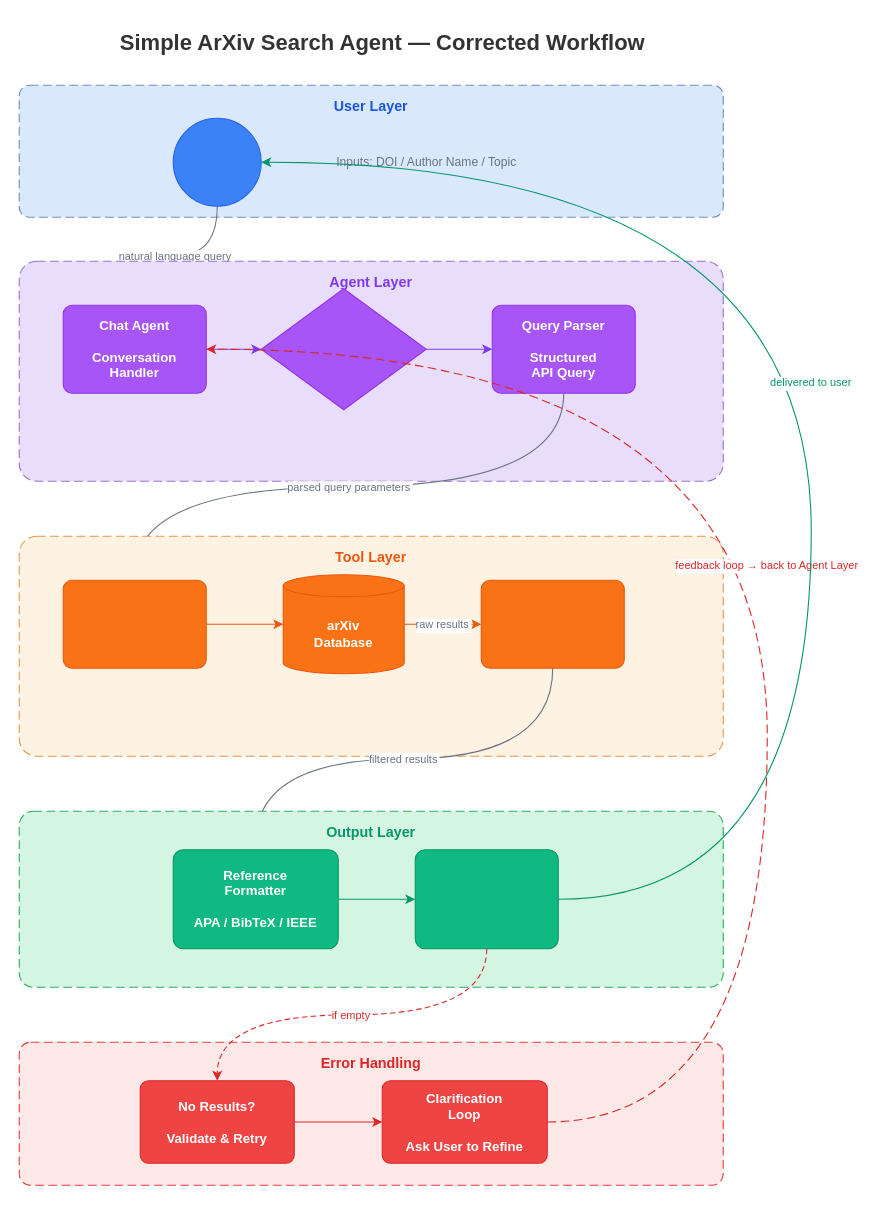
The diagram is 879 pixels wide and 1205 high, and some of its shapes have lost their labels. Here are the shapes that lost their labels. From the top down, the centre of each, then its label:
At pixel 216 161: "User".
At pixel 343 349: "Intent Classifier DOI · Author · Topic".
At pixel 134 623: "arXiv API Search Endpoint".
At pixel 552 623: "Results Filter & Ranker Relevance Sort".
At pixel 486 899: "Result Formatted Response".
